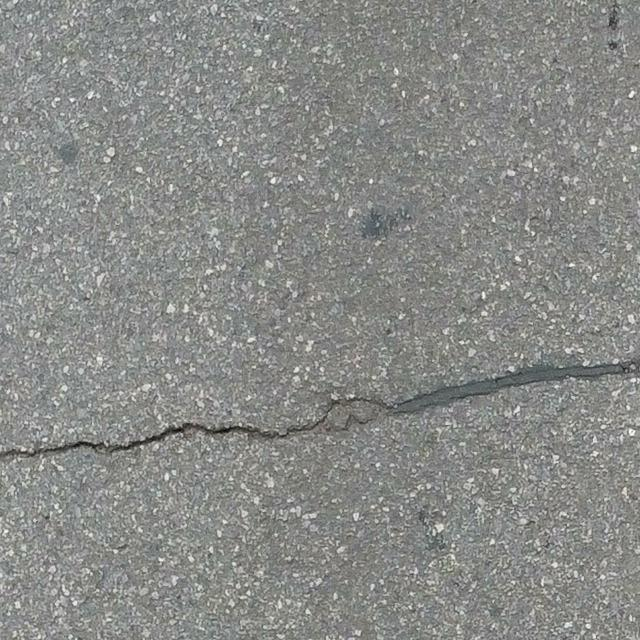TransverseCrack: (1, 361, 640, 463)
